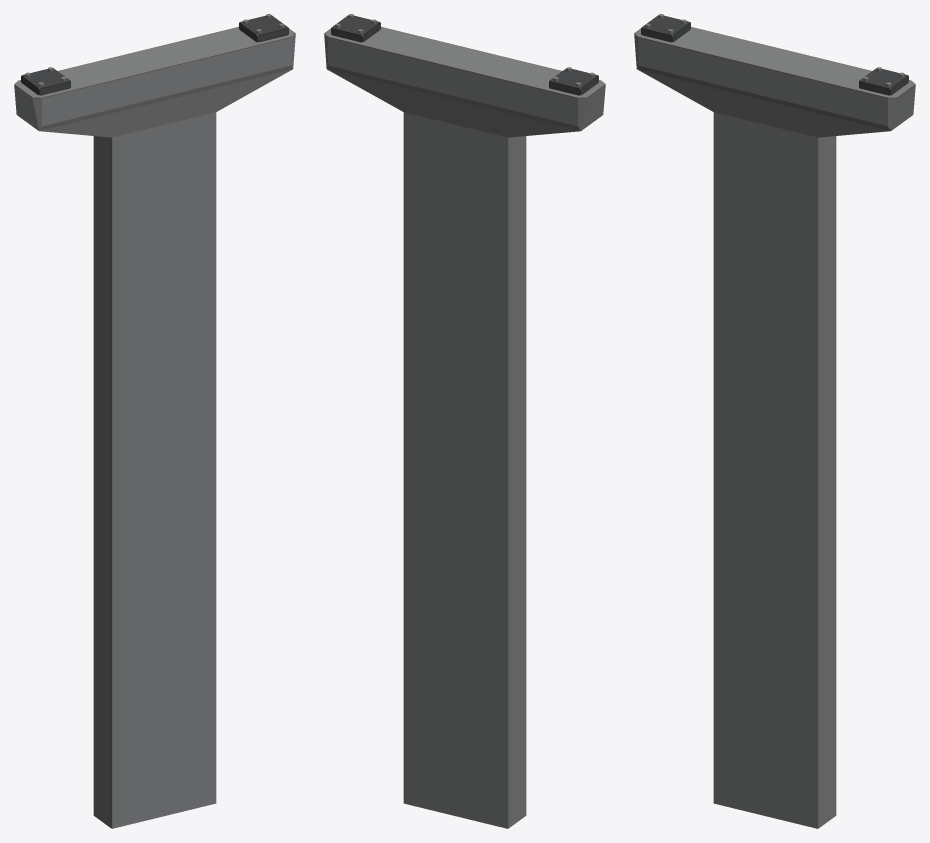
File: stand.obj
The picture shows the model from 3 angles, left to right: view 1: azimuth 30°, elevation 25°; view 2: azimuth 150°, elevation 25°; view 3: azimuth 330°, elevation 25°; orthographic projection.
Parts seen in each view (by area): view 1: cuboid; view 2: cuboid; view 3: cuboid.
Part boxes in pixels (x1=…): cuboid: x1=14, y1=14, x2=295, y2=828; cuboid: x1=324, y1=14, x2=605, y2=828; cuboid: x1=634, y1=14, x2=915, y2=828.
Bounding box in the file's own units: 7.25 × 20 × 1.12.
